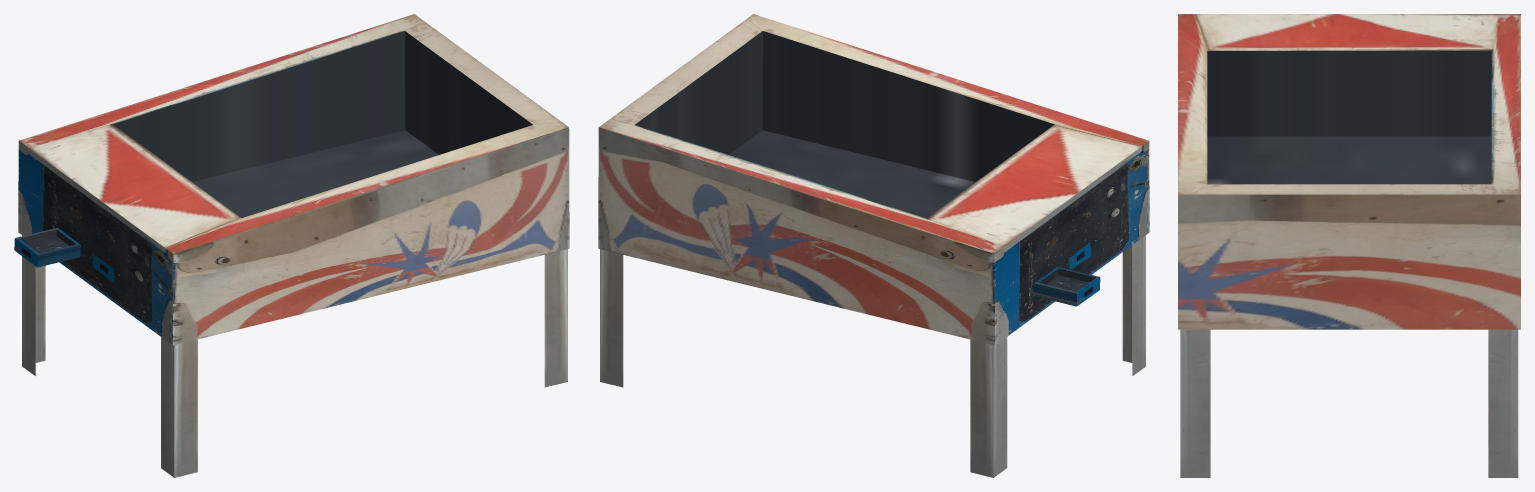
Rendered from MazeCase.fbx.
3 renders of one model, left to right at view 1: azimuth 30°, elevation 25°; view 2: azimuth 150°, elevation 25°; view 3: azimuth 270°, elevation 25°, orthographic. The views are drawn at different scales.
Visible parts, largest first — view 1: Cube; view 2: Cube; view 3: Cube.
Boxes of the visible parts, x1,y1,x2,y2 form: Cube: (14,14,569,477); Cube: (598,14,1149,477); Cube: (1178,14,1520,477).
Size of the model in its own units: 3.75 by 2.08 by 2.29.
